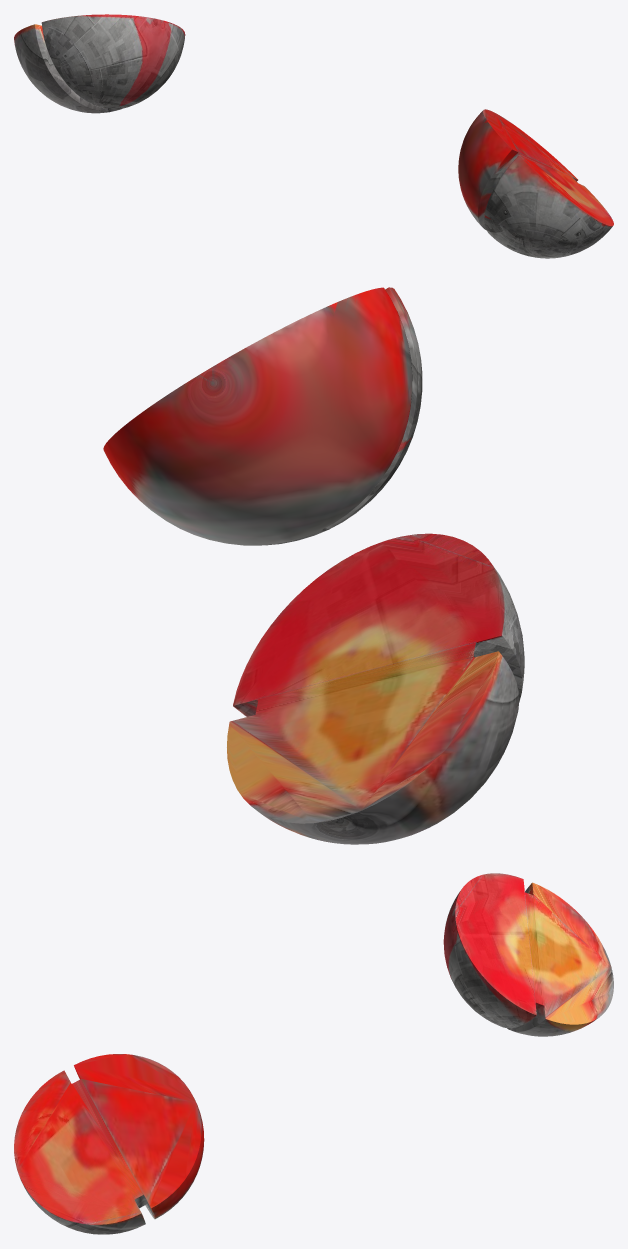
Rendered from Drone166_000020.obj.
The picture shows the model from 3 angles, top to bottom: view 1: azimuth 30°, elevation 25°; view 2: azimuth 150°, elevation 25°; view 3: azimuth 270°, elevation 25°; orthographic projection. The views are drawn at different scales.
Visible parts, largest first — view 1: Sphere.001_Sphere.005, Sphere.000_Sphere.004; view 2: Sphere.000_Sphere.004, Sphere.001_Sphere.005; view 3: Sphere.001_Sphere.005, Sphere.000_Sphere.004.
Part boxes in pixels (bbox=[...]): Sphere.001_Sphere.005: bbox=[458, 109, 613, 258]; Sphere.000_Sphere.004: bbox=[14, 14, 185, 113]; Sphere.000_Sphere.004: bbox=[227, 533, 524, 844]; Sphere.001_Sphere.005: bbox=[103, 287, 422, 545]; Sphere.001_Sphere.005: bbox=[14, 1054, 204, 1234]; Sphere.000_Sphere.004: bbox=[443, 873, 613, 1036].
Bounding box in the file's own units: 5.32 × 2.43 × 6.67.
Materials: 4 (4 with a texture image).
